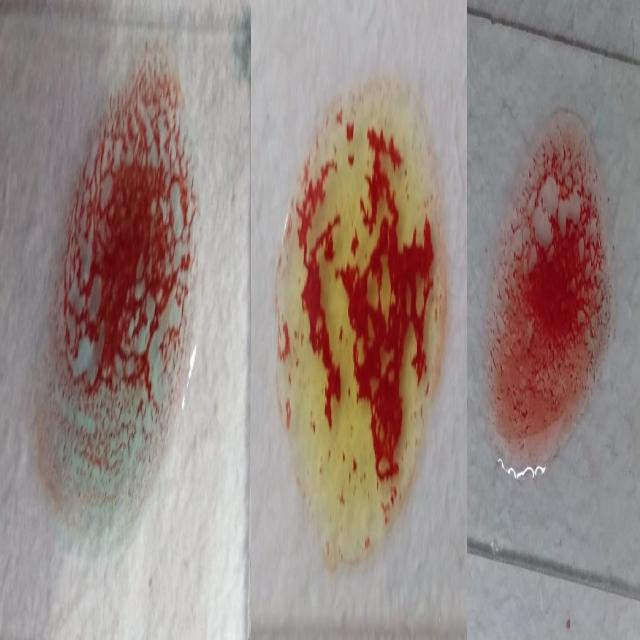A: (42, 33, 195, 547)
B: (278, 68, 444, 586)
D: (480, 116, 613, 494)
